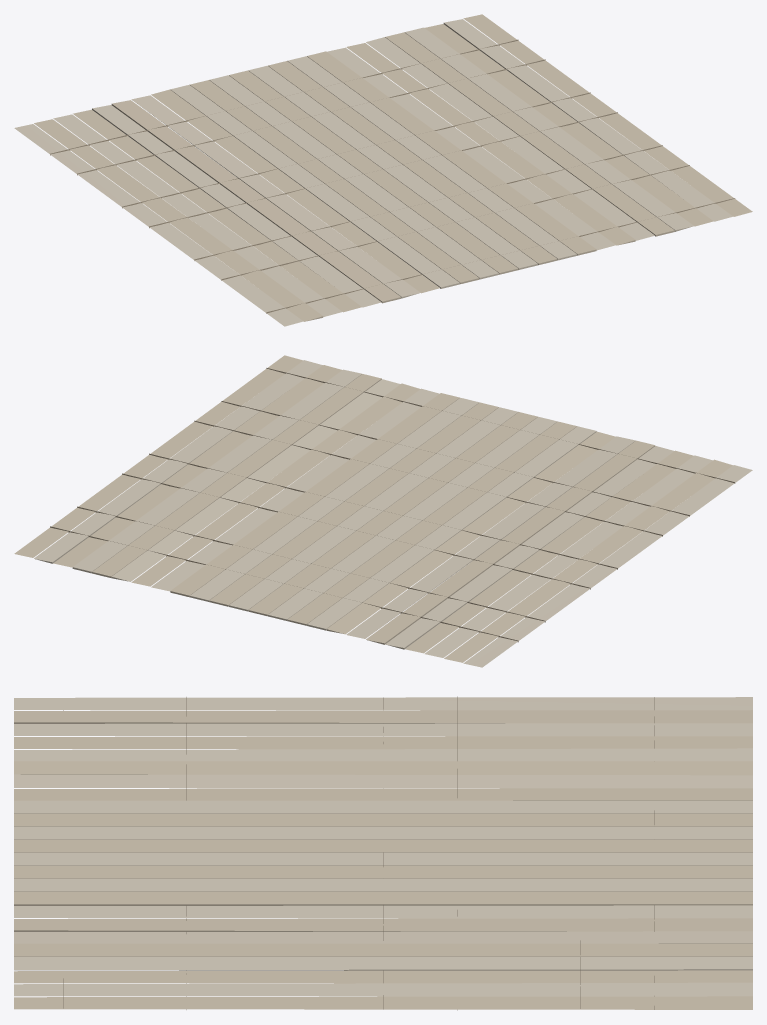
The model's file is home_floor_boards__birch_low.glb.
3 renders of one model, top to bottom at view 1: azimuth 30°, elevation 25°; view 2: azimuth 150°, elevation 25°; view 3: azimuth 270°, elevation 25°, orthographic. The views are drawn at different scales.
Bounding box in the file's own units: 12 × 0.0419 × 12.
